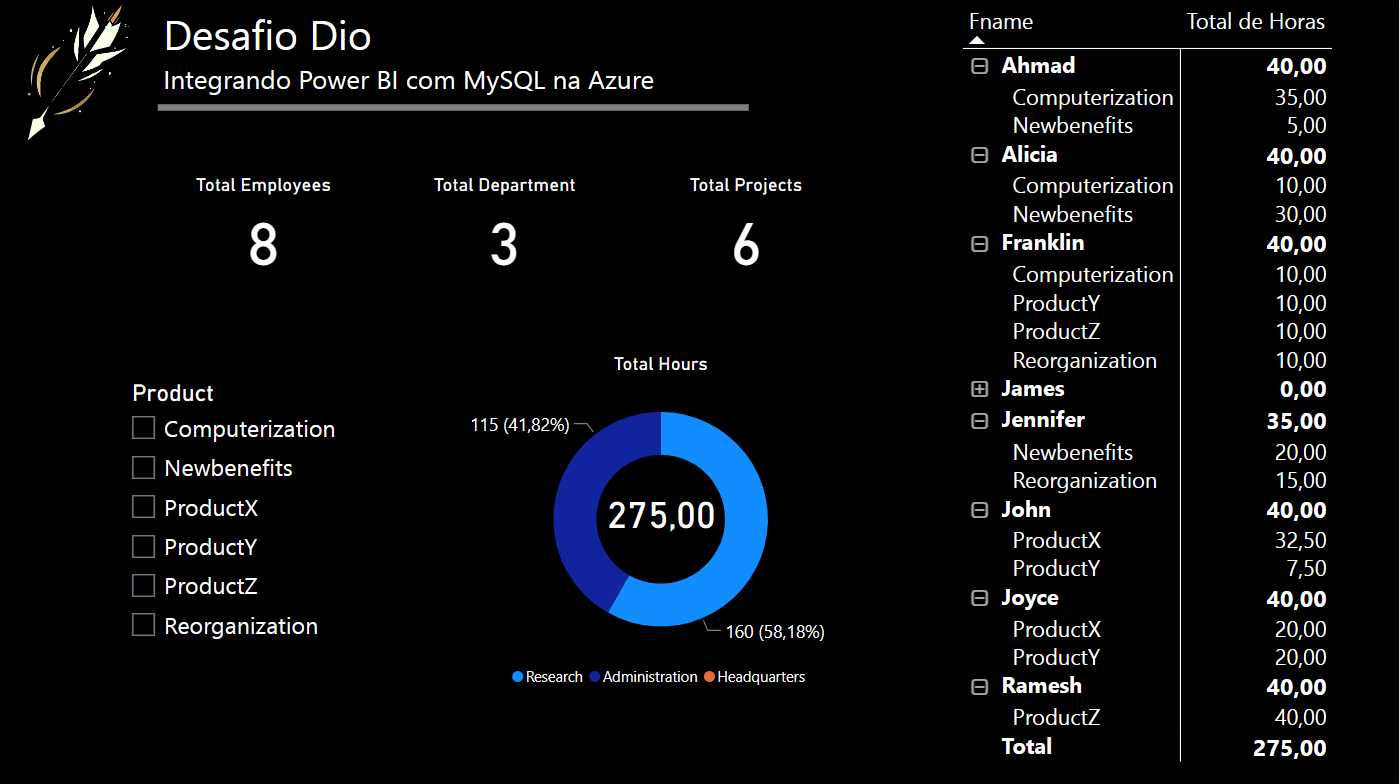

What the dashboard file says about the page in this screenshot:
{"tool":"powerbi","page":{"name":"Página 1","canvas":[1280,720],"ordinal":0},"visuals":[{"type":"textbox","box":[145.3,1.4,504.5,97.3],"z":0},{"type":"shape","box":[145.3,85,540.2,27.4],"z":1000},{"type":"image","box":[0,0,145.3,133],"z":2000},{"type":"card","title":"Total Employees","fields":{"Values":[".Medidas.Total Funcionários"]},"box":[141.7,159.1,200.1,95.1],"z":3000},{"type":"card","title":"Total Department","fields":{"Values":[".Medidas.Total Departamento"]},"box":[361.9,159.1,200.1,95.1],"z":4000},{"type":"card","title":"Total Projects","fields":{"Values":[".Medidas.Total Projects"]},"box":[582,159.1,200.1,95.1],"z":5000},{"type":"donutChart","title":"Total Hours","fields":{"Y":[".Medidas.Total de Horas"],"Category":["azure_company departament.Dname"]},"box":[365.2,321.8,478.6,315.2],"z":6000},{"type":"card","title":"Total Projects","fields":{"Values":[".Medidas.Total de Horas"]},"box":[547,420.2,116.7,95.1],"z":7000},{"type":"slicer","fields":{"Values":["azure_company project.Pname"]},"box":[108.4,341.8,241.8,275.1],"z":8000},{"type":"pivotTable","fields":{"Rows":["azure_company employee.Fname","azure_company project.Pname"],"Values":[".Medidas.Total de Horas"]},"box":[875.5,0,405.2,710.4],"z":9000}]}

Visuals, with their boxes in screenshot pixels (x1, y1, x2, y2), scaled from the page's 1280x720 canvas onto the 1400x784 screenshot:
textbox: box(159, 2, 711, 107)
shape: box(159, 93, 750, 122)
image: box(0, 0, 159, 145)
"Total Employees" card: box(155, 173, 374, 277)
"Total Department" card: box(396, 173, 615, 277)
"Total Projects" card: box(637, 173, 855, 277)
"Total Hours" donutChart: box(399, 350, 923, 694)
"Total Projects" card: box(598, 458, 726, 561)
slicer - azure_company project.Pname: box(119, 372, 383, 672)
pivotTable - azure_company employee.Fname x azure_company project.Pname: box(958, 0, 1399, 774)
